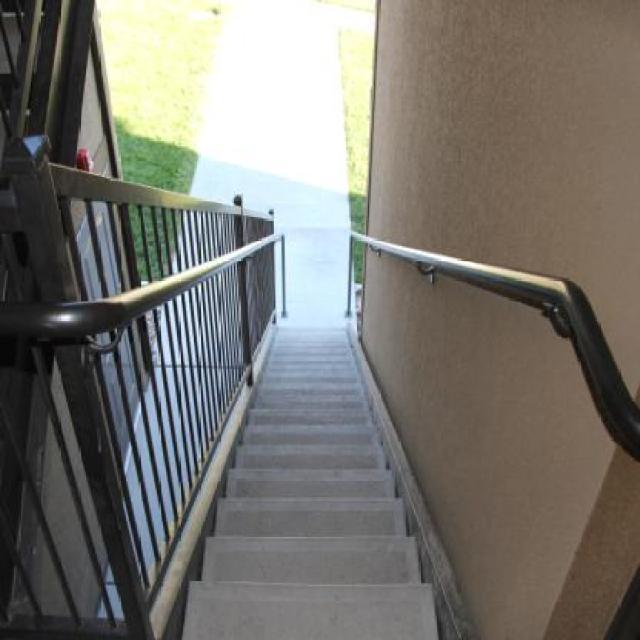stair: (140, 154, 520, 638)
